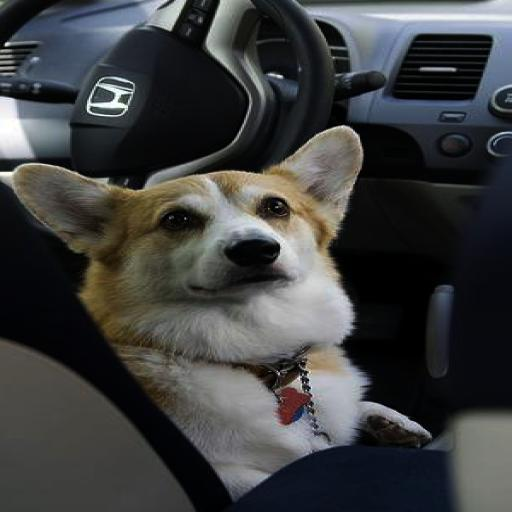dog_face: (12, 136, 377, 305)
